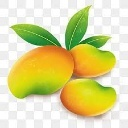mango: (8, 45, 74, 100), (60, 77, 118, 117)
